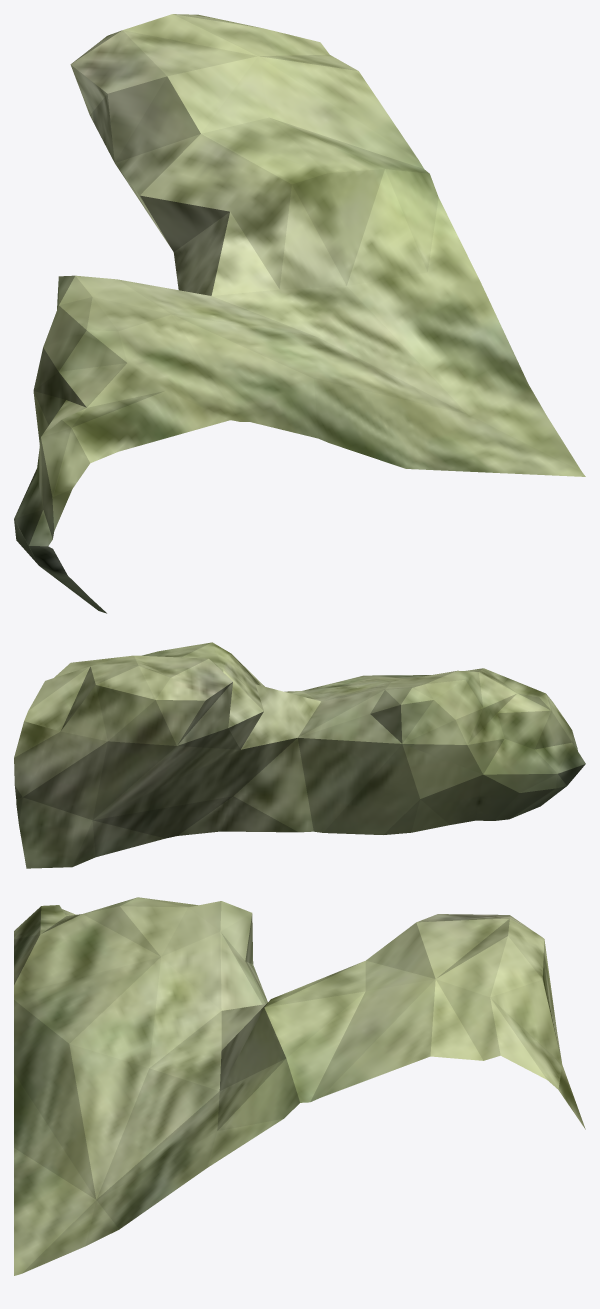
3 views of the same model, one above another, from view 1: azimuth 30°, elevation 25°; view 2: azimuth 150°, elevation 25°; view 3: azimuth 270°, elevation 25° (orthographic). The views are drawn at different scales.
Size of the model in its own units: 2.46 by 1.37 by 2.41.
1 material, 1 textured.
